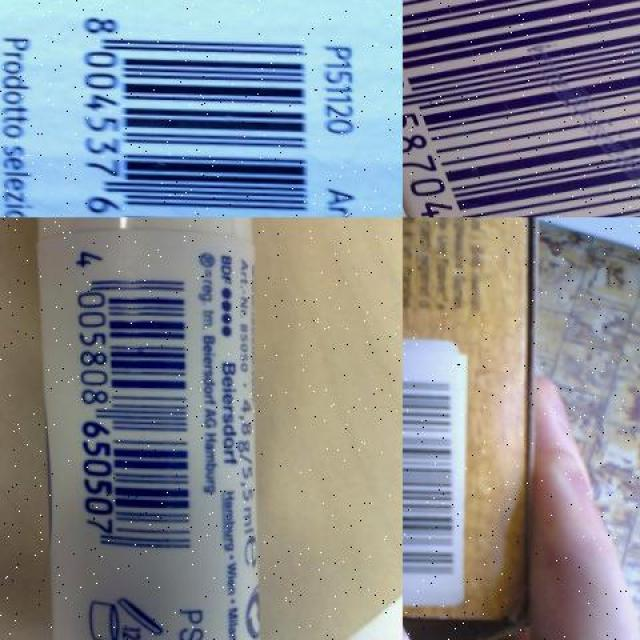Barcode: (57, 1, 320, 218), (402, 0, 640, 217), (62, 242, 194, 562), (403, 345, 469, 596)
